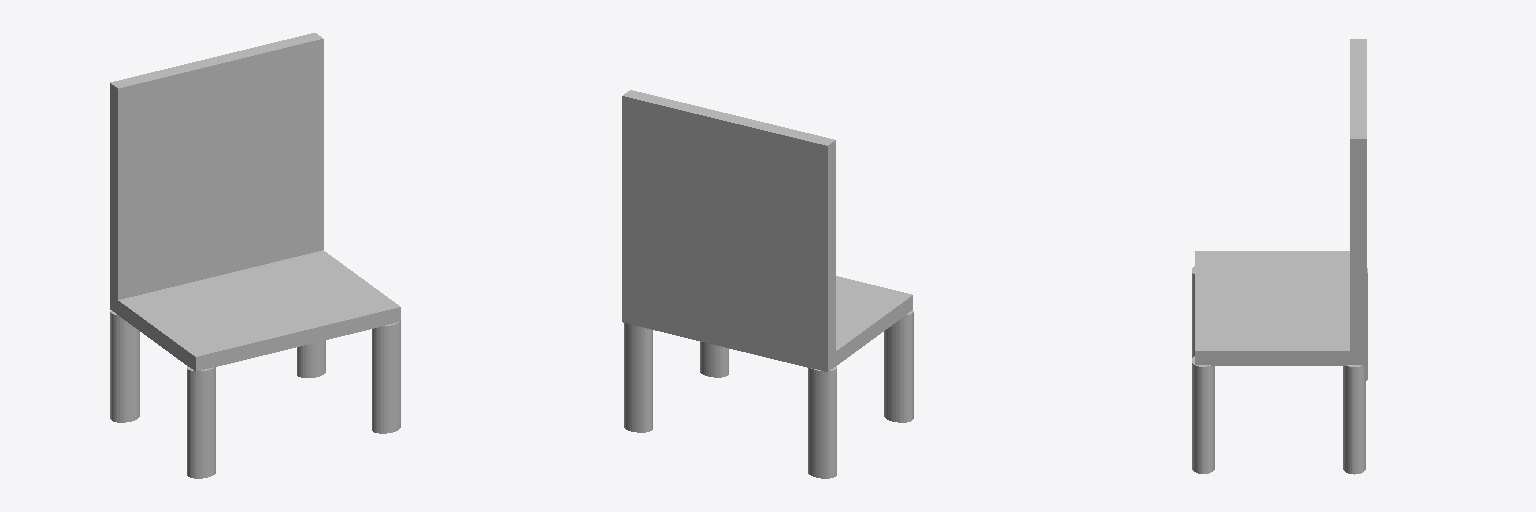
Rendered from cadeira.obj.
3 views of the same model, side by side, from view 1: azimuth 30°, elevation 25°; view 2: azimuth 150°, elevation 25°; view 3: azimuth 270°, elevation 25° (orthographic).
Visible parts, largest first — view 1: Cube.005_Cube.006, Cube.009, Cylinder_Cylinder.003, Cylinder.001_Cylinder.004, Cylinder.002_Cylinder.005, Cylinder.003_Cylinder.006; view 2: Cube.005_Cube.006, Cube.009, Cylinder.002_Cylinder.005, Cylinder.003_Cylinder.006, Cylinder_Cylinder.003, Cylinder.001_Cylinder.004; view 3: Cube.009, Cube.005_Cube.006, Cylinder.001_Cylinder.004, Cylinder.003_Cylinder.006.
Boxes of the visible parts, box(x1,y1,x2,y2) form: Cube.005_Cube.006: box(110, 33, 323, 299); Cube.009: box(110, 250, 400, 371); Cylinder_Cylinder.003: box(187, 366, 215, 478); Cylinder.001_Cylinder.004: box(372, 322, 400, 433); Cylinder.002_Cylinder.005: box(110, 310, 139, 422); Cylinder.003_Cylinder.006: box(297, 340, 325, 377); Cube.005_Cube.006: box(622, 90, 835, 360); Cube.009: box(622, 276, 912, 371); Cylinder.002_Cylinder.005: box(808, 366, 836, 478); Cylinder.003_Cylinder.006: box(624, 323, 652, 432); Cylinder_Cylinder.003: box(884, 310, 913, 422); Cylinder.001_Cylinder.004: box(700, 341, 728, 377); Cube.009: box(1195, 251, 1365, 365); Cube.005_Cube.006: box(1350, 39, 1366, 353); Cylinder.001_Cylinder.004: box(1192, 356, 1214, 473); Cylinder.003_Cylinder.006: box(1343, 365, 1365, 474).
Size of the model in its own units: 2.62 by 3.93 by 1.89.